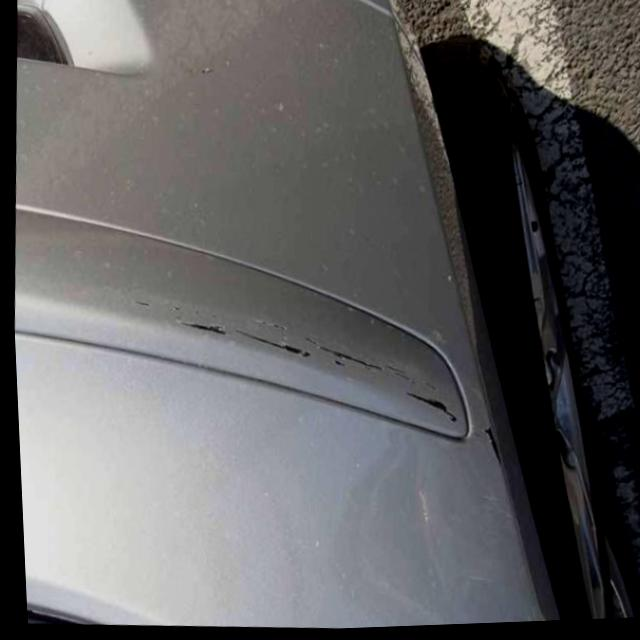Scratch: (234, 327, 312, 360), (307, 336, 379, 370), (404, 386, 461, 428), (479, 419, 502, 468), (177, 320, 229, 337)
